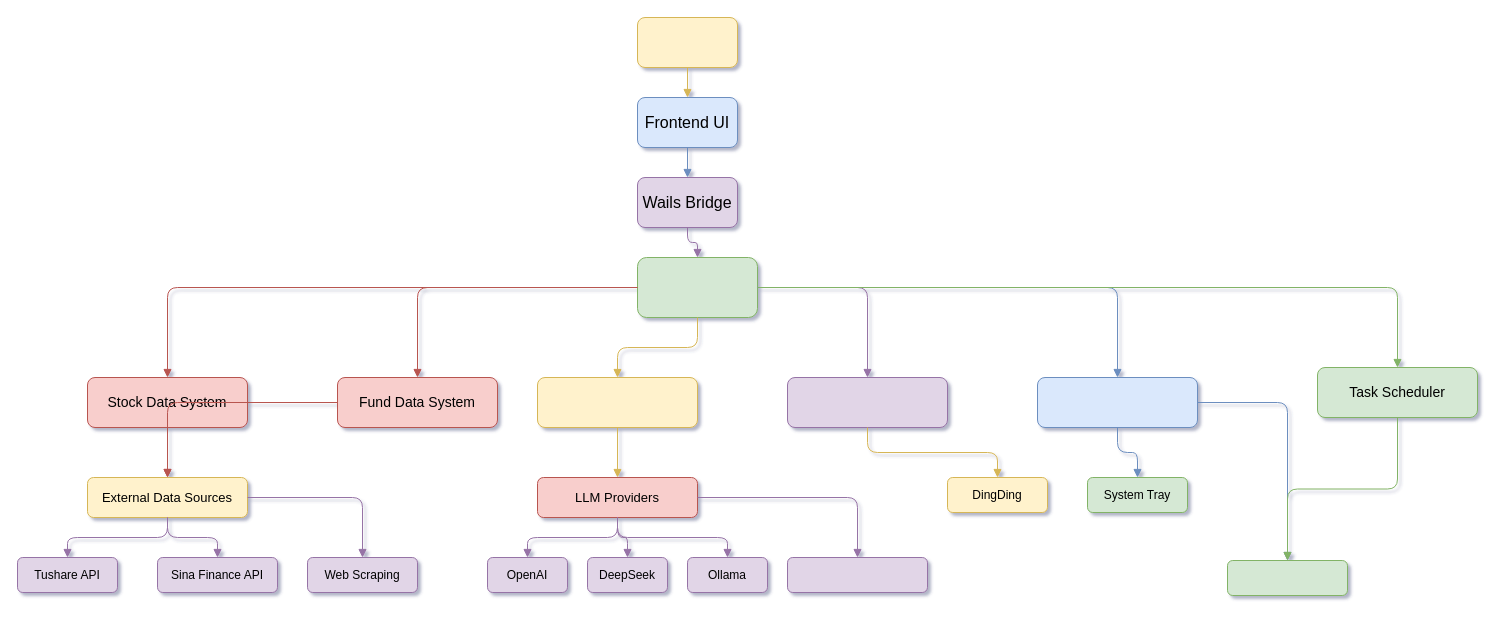
This 1501x619 diagram has some shape labels left out. The shapes that lost their labels are listed below. From the top down, each one's centre as x and y in pixels, then its label:
At (x=687, y=42): "User".
At (x=697, y=287): "Go Backend".
At (x=617, y=402): "AI Analysis System".
At (x=867, y=402): "SQLite Database".
At (x=1117, y=402): "Notification System".
At (x=857, y=574): "Other LLM Platforms".
At (x=1287, y=578): "OS Notifications".
